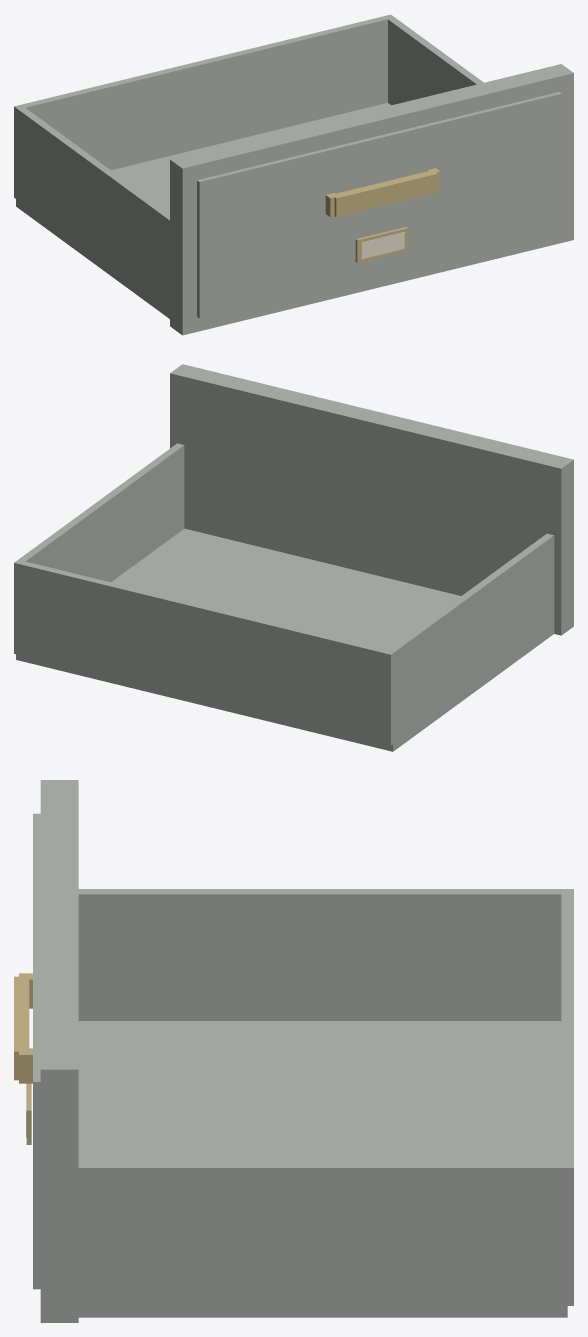
The model's file is cabinet_drawer.glb.
The picture shows the model from 3 angles, top to bottom: view 1: azimuth 30°, elevation 25°; view 2: azimuth 150°, elevation 25°; view 3: azimuth 270°, elevation 25°; orthographic projection. The views are drawn at different scales.
Parts seen in each view (by area): view 1: CabinetDrawer; view 2: CabinetDrawer; view 3: CabinetDrawer.
Part boxes in pixels (x1,y1,x2,y2): CabinetDrawer: (14, 14, 573, 335); CabinetDrawer: (14, 364, 573, 751); CabinetDrawer: (14, 780, 573, 1322).
Bounding box in the file's own units: 0.54 × 0.22 × 0.441.
